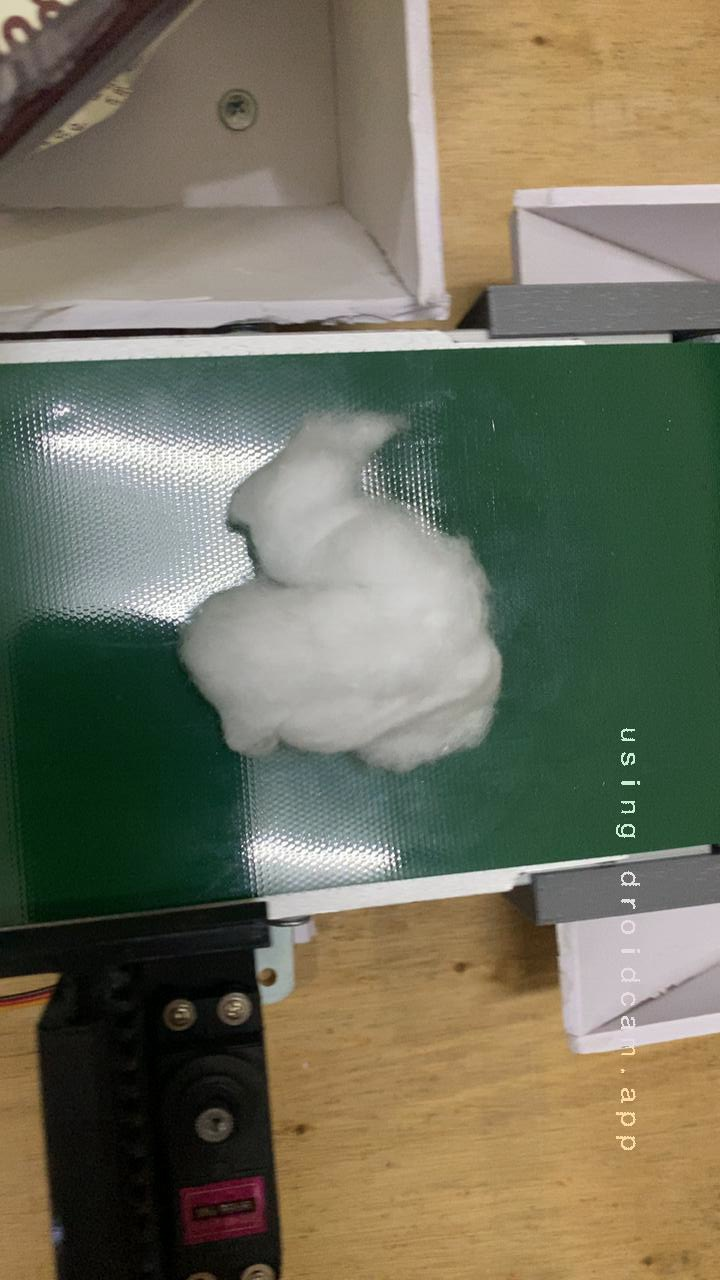cotton: (155, 379, 554, 800)
